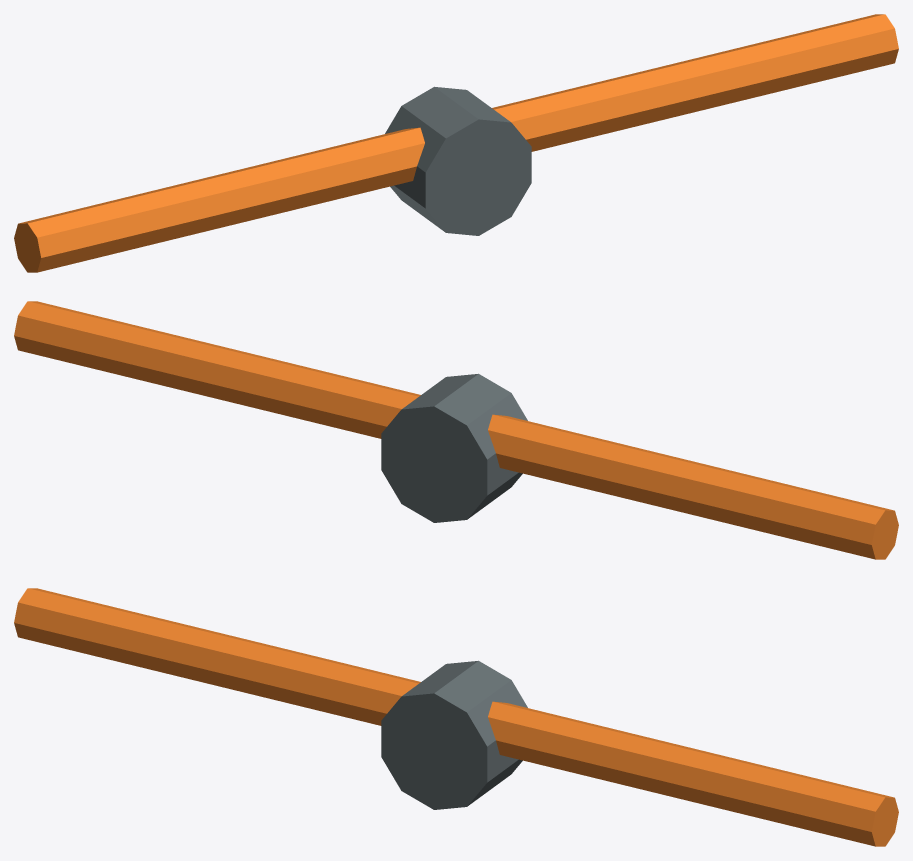
The model's file is prop_5_blade_composite.glb.
The picture shows the model from 3 angles, top to bottom: view 1: azimuth 30°, elevation 25°; view 2: azimuth 150°, elevation 25°; view 3: azimuth 330°, elevation 25°; orthographic projection.
Parts seen in each view (by area): view 1: prop_blade.358, prop_hub.088, prop_blade.360, prop_blade.359; view 2: prop_blade.358, prop_hub.088, prop_blade.360, prop_blade.359; view 3: prop_blade.358, prop_hub.088, prop_blade.360, prop_blade.359.
Boxes of the visible parts, left/top/right/bottom form: prop_blade.358: left=14, top=14, right=898, bottom=272; prop_hub.088: left=385, top=86, right=531, bottom=235; prop_blade.360: left=101, top=35, right=816, bottom=251; prop_blade.359: left=315, top=88, right=601, bottom=185; prop_blade.358: left=14, top=301, right=898, bottom=559; prop_hub.088: left=381, top=373, right=527, bottom=522; prop_blade.360: left=96, top=321, right=794, bottom=536; prop_blade.359: left=310, top=374, right=597, bottom=486; prop_blade.358: left=14, top=588, right=898, bottom=846; prop_hub.088: left=381, top=660, right=527, bottom=809; prop_blade.360: left=96, top=608, right=791, bottom=822; prop_blade.359: left=310, top=661, right=597, bottom=773.
Bounding box in the file's own units: 2 × 0.26 × 0.18.
